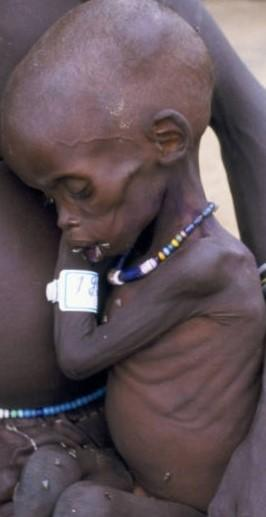Stunting: (1, 0, 250, 284)
